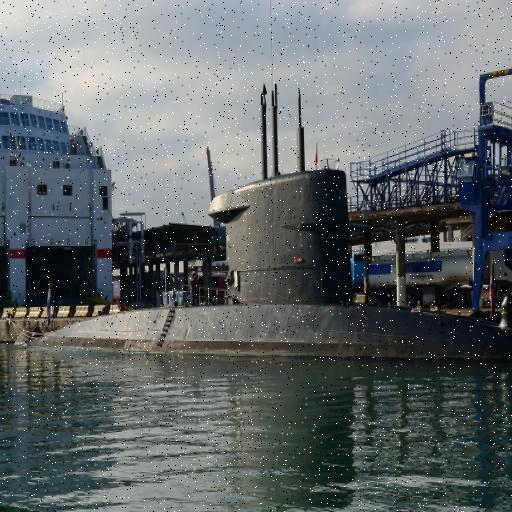submarine: (28, 170, 512, 361)
